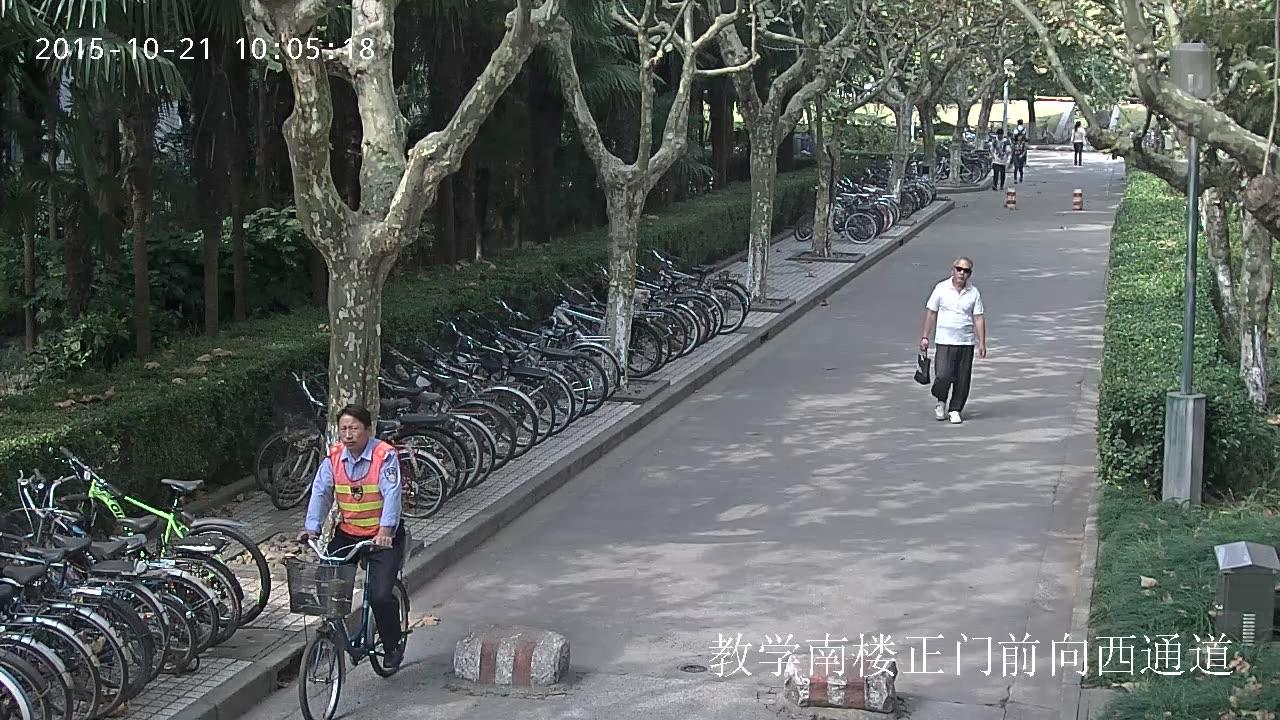person: (282, 402, 412, 719), (295, 403, 406, 668), (913, 255, 985, 423), (990, 128, 1007, 190), (1010, 137, 1024, 184), (1071, 121, 1083, 165), (1013, 119, 1026, 142)
